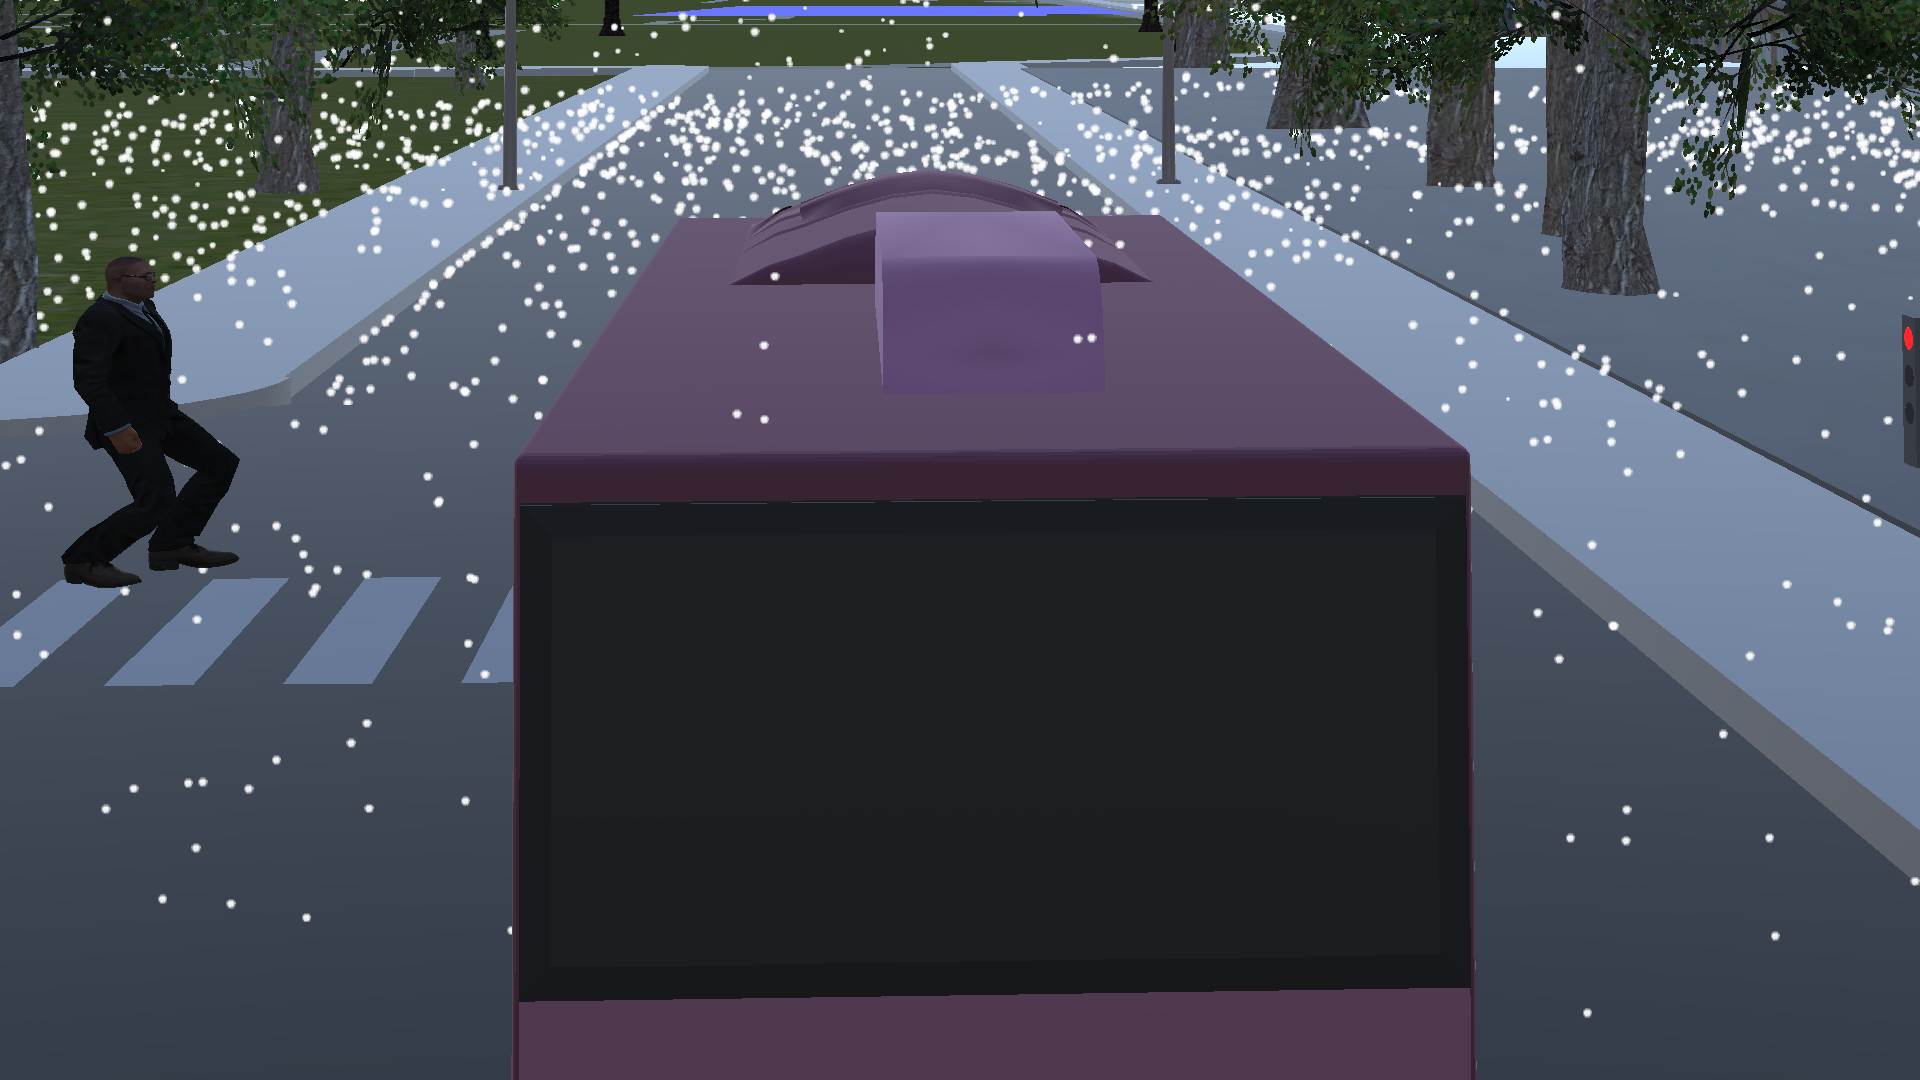pedestrian: (53, 243, 262, 598)
